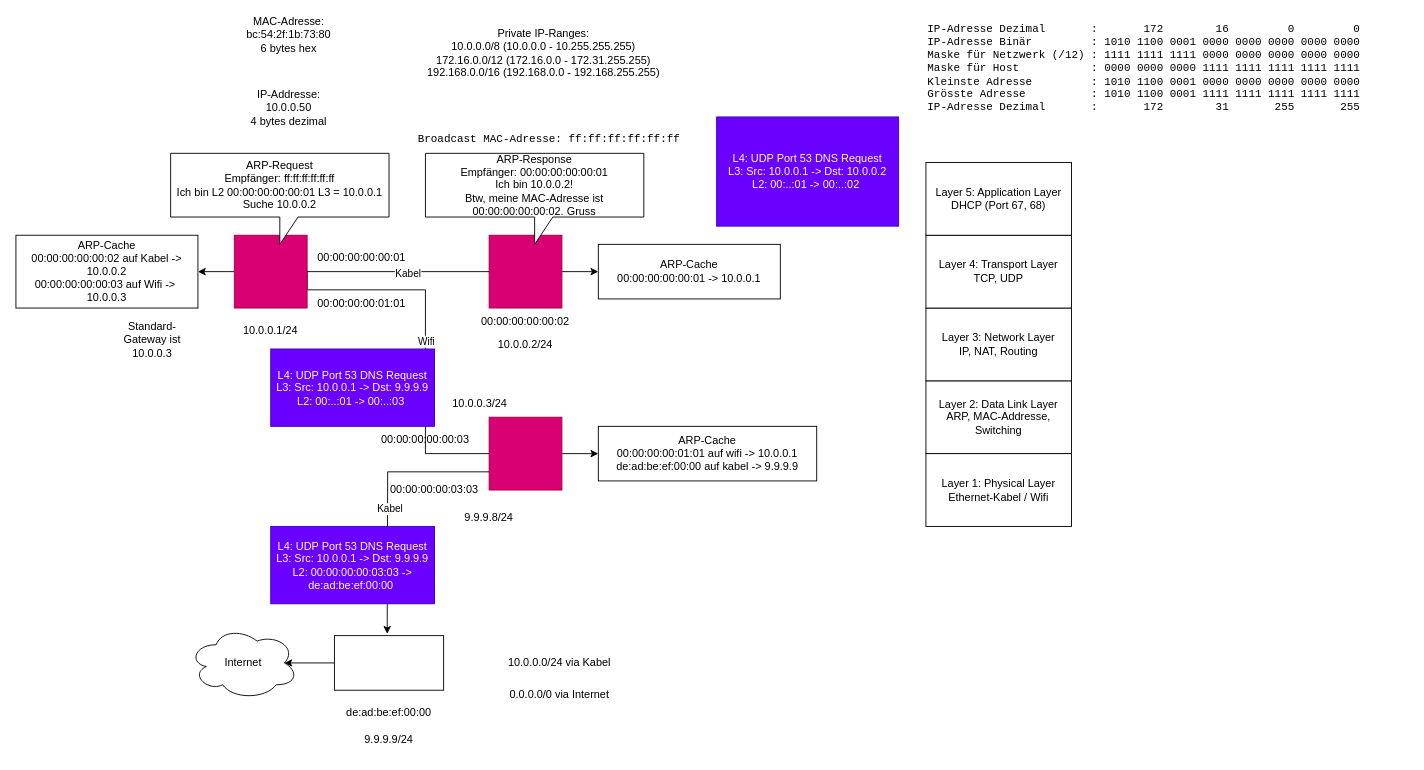
This 1424x770 diagram has some shape labels left out. Here are the shapes that lost their labels. From the top down, the centre of each, then its label:
the point at 270,271: Host 1
the point at 525,271: Host 2
the point at 525,453: Host 3 Router
the point at 389,662: Host 4
